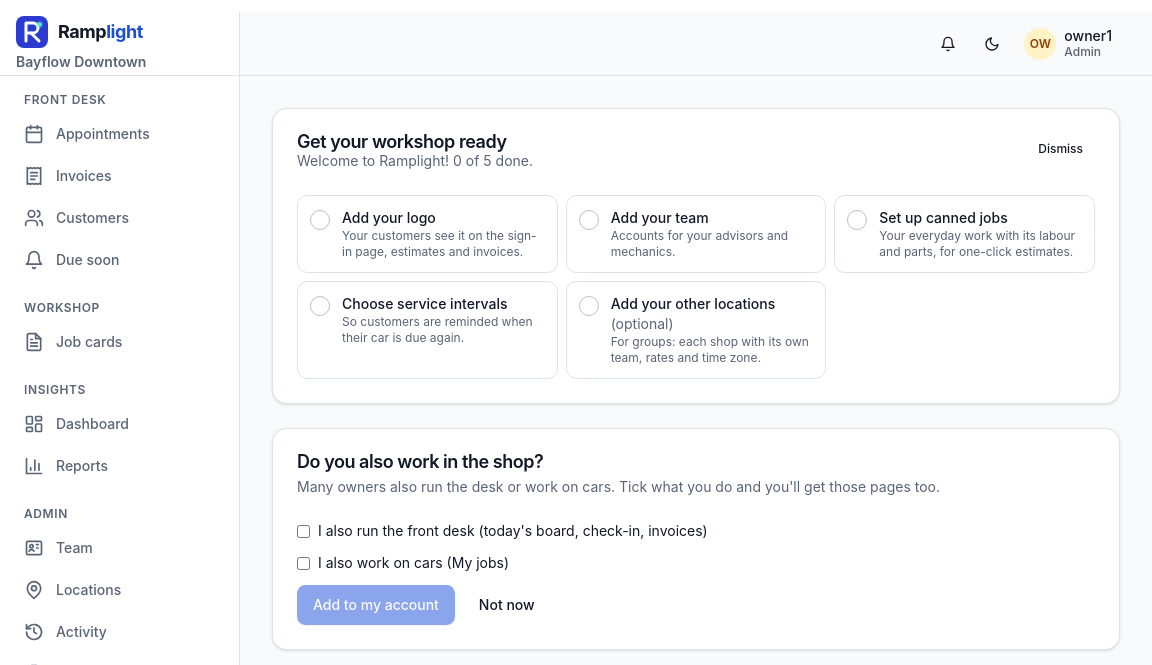
Test: one person, several roles › asks an owner who is only an admin whether they also work in the shop
The width and height of the screenshot is (1152, 665).
Expected: the heading "Do you also work in the shop?" is shown, [297,451,543,472]
Click the checkbox labelled "I also run the front desk".
click(304, 531)  # box [297,524,310,538]
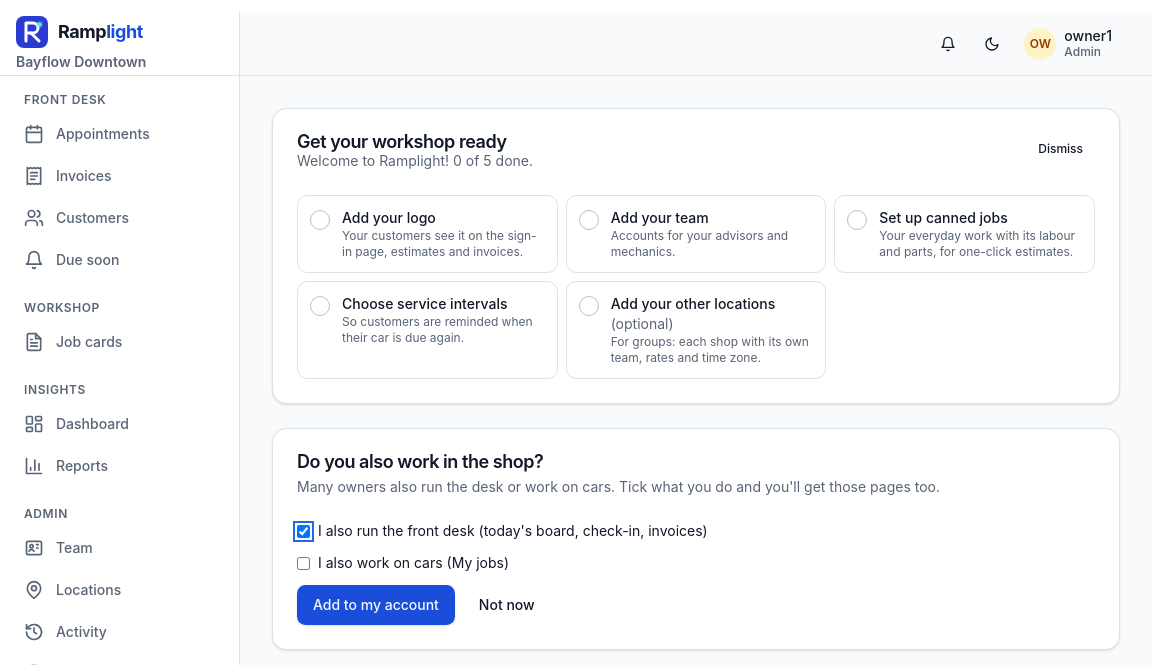
Click the checkbox labelled "I also work on cars (My jobs)".
click(304, 563)  # box [297,556,310,570]
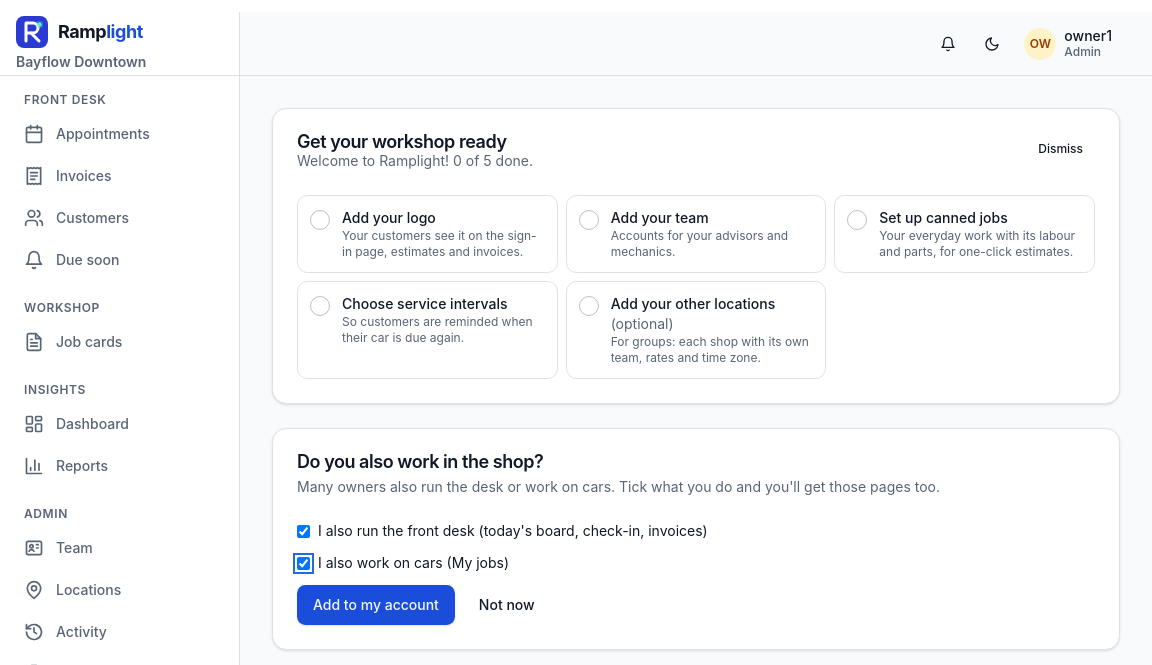
Click the button "Add to my account".
click(376, 605)  # box [297,585,455,625]
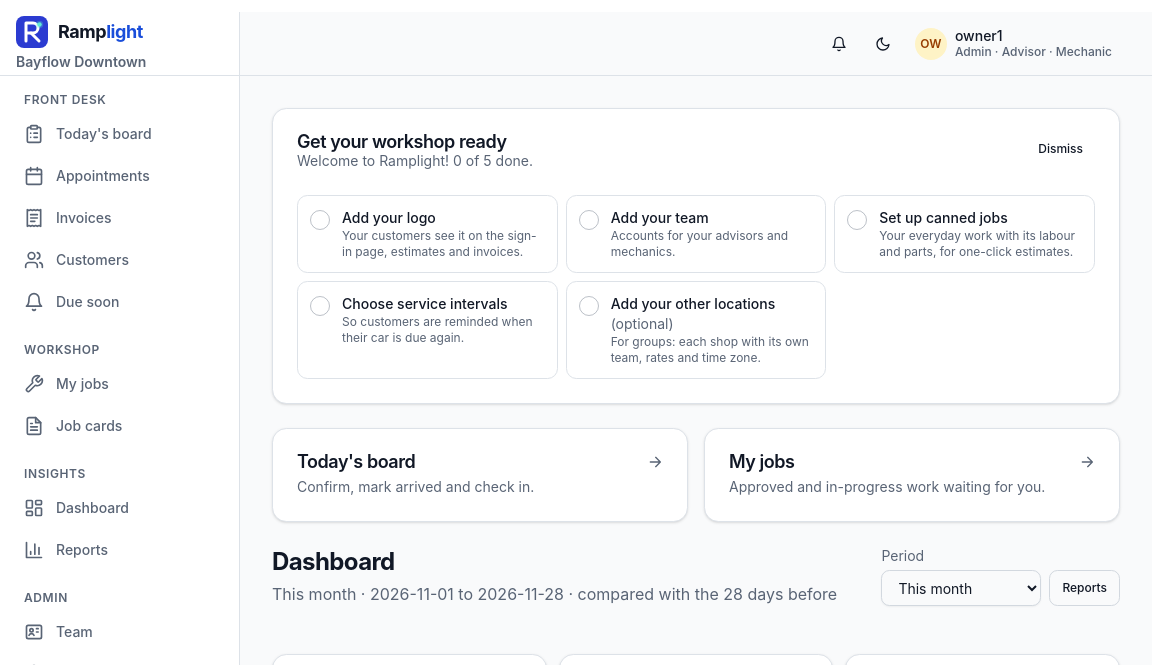
Expected: the link "Today's board Confirm, mark arrived and check in." is shown, [272,428,688,522]
Expected: the link "My jobs Approved and in-progress work waiting for you." is shown, [704,428,1120,522]
Expected: the heading "Do you also work in the shop?" is gone
